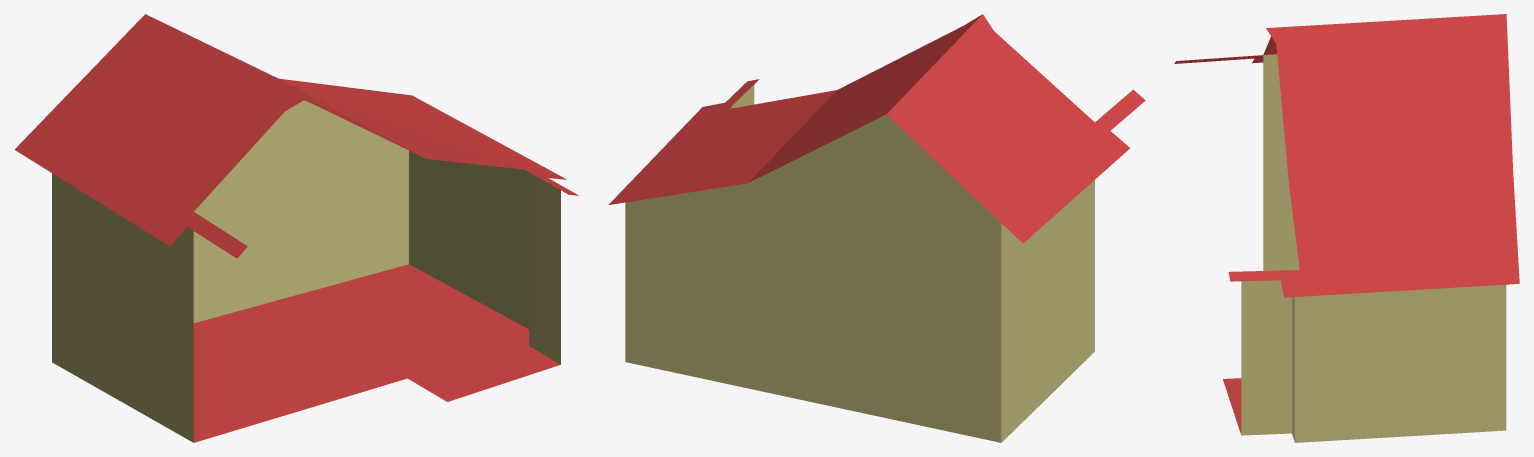
The picture shows the model from 3 angles, left to right: view 1: azimuth 30°, elevation 25°; view 2: azimuth 150°, elevation 25°; view 3: azimuth 270°, elevation 25°; orthographic projection. The views are drawn at different scales.
Bounding box in the file's own units: 18.52 × 13.45 × 12.7.
